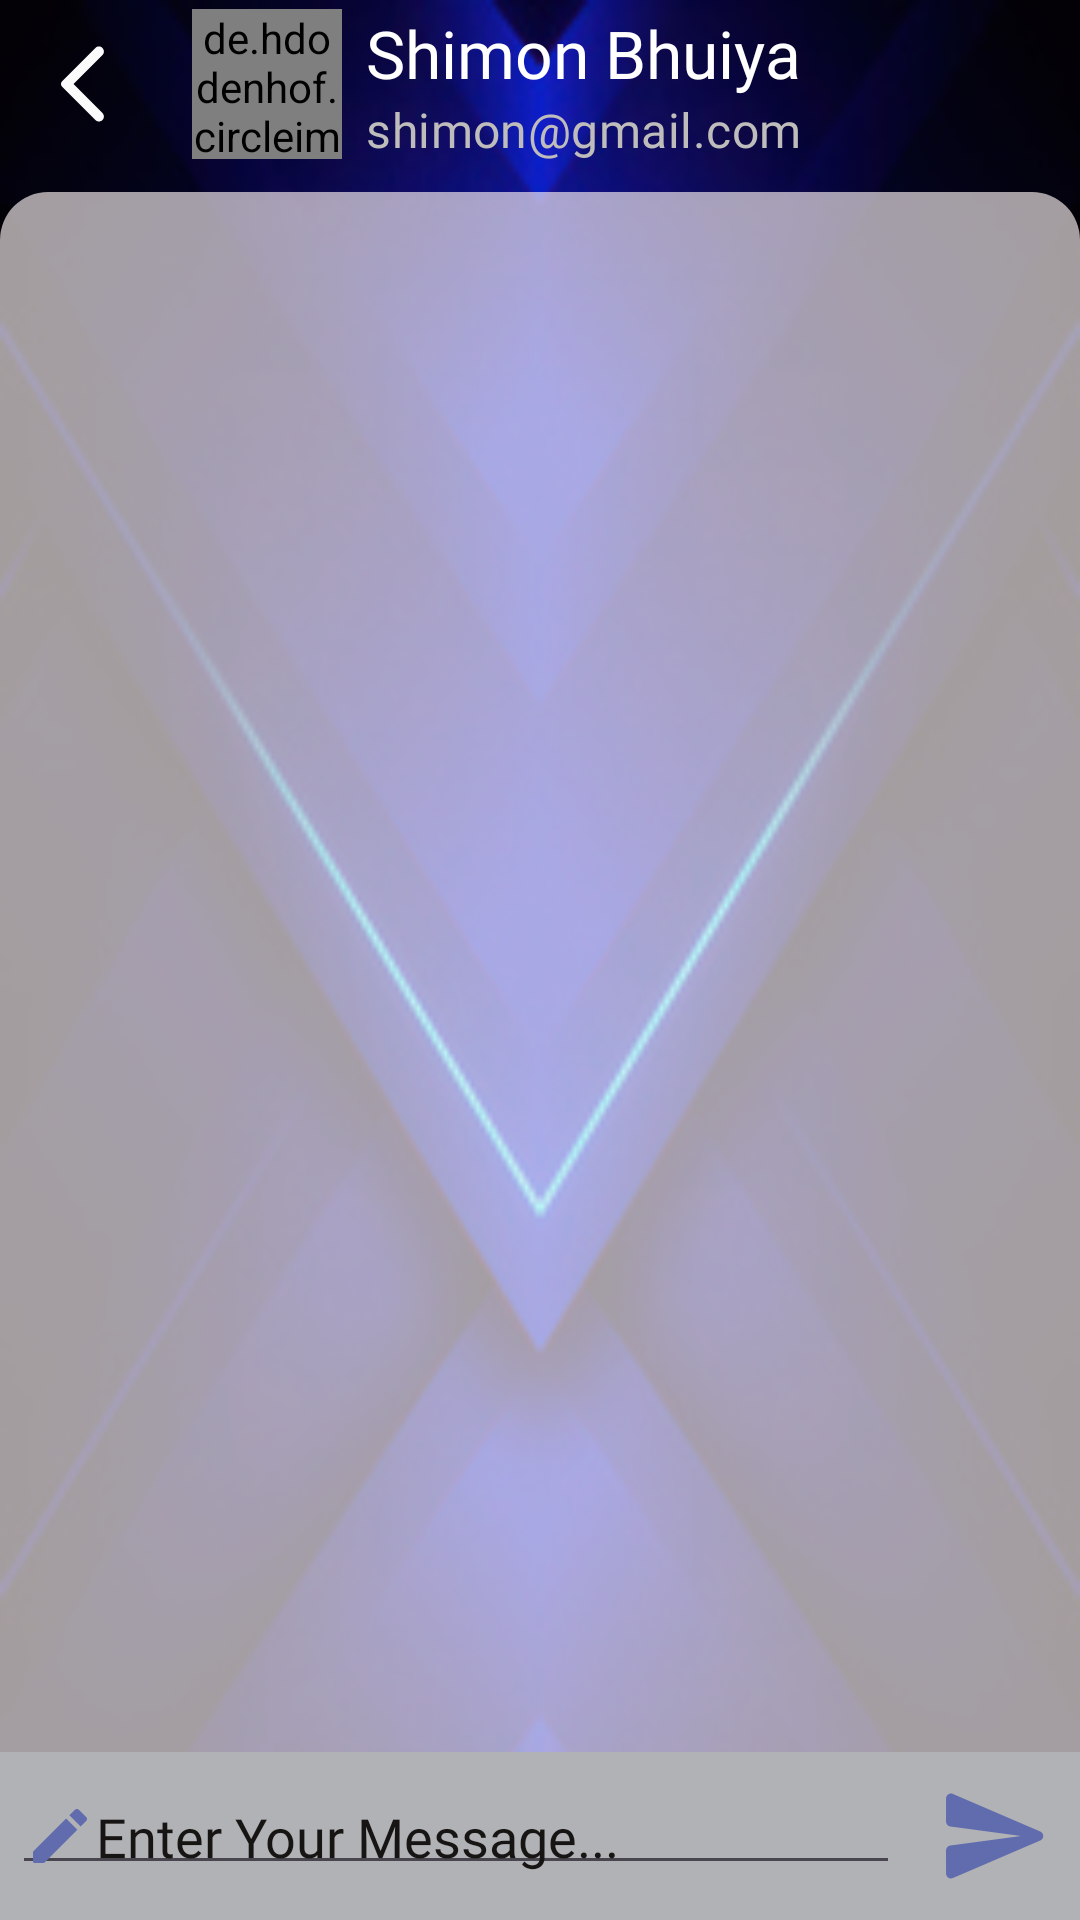

Screen size 1080×1920. Icon name, then its box in pixels as detection(x1, y1, x2, y2):
send: detection(946, 1793, 1043, 1879)
